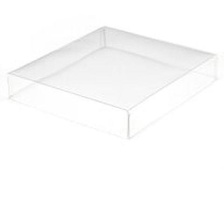plastic_box: (0, 19, 224, 146)
